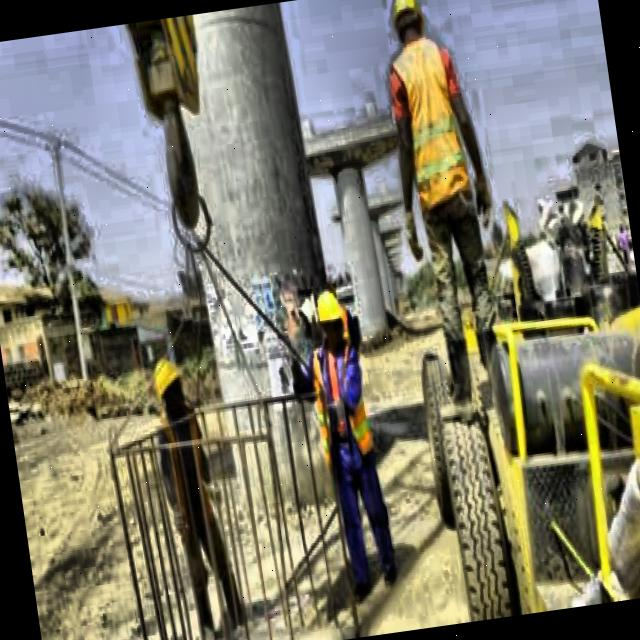helmet: (308, 282, 352, 357), (148, 348, 192, 421), (388, 0, 430, 46)
